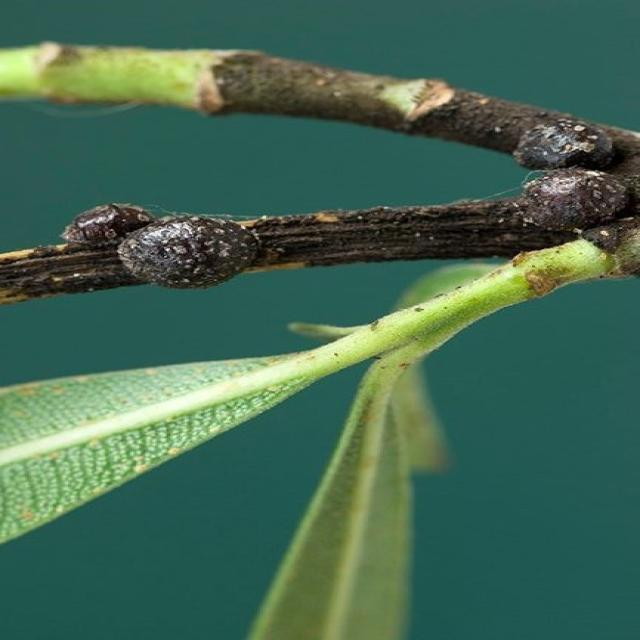BlackScale: (118, 215, 260, 288), (512, 168, 638, 231), (513, 118, 612, 170), (62, 203, 154, 245)
